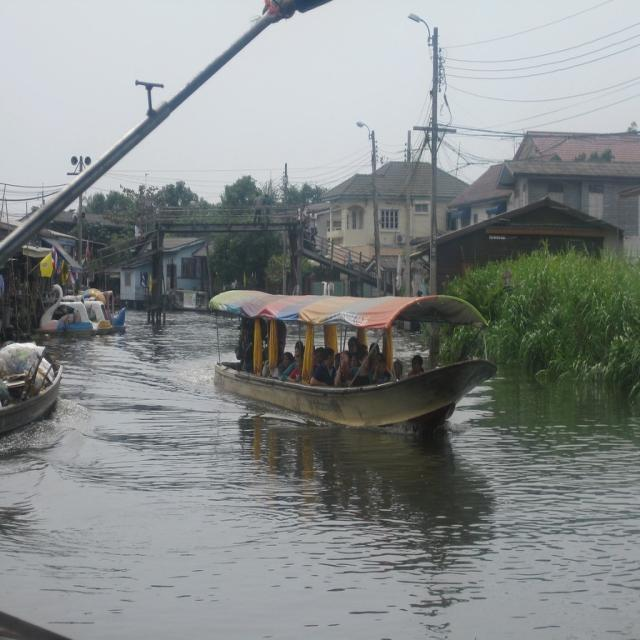boat: (214, 298, 496, 433)
